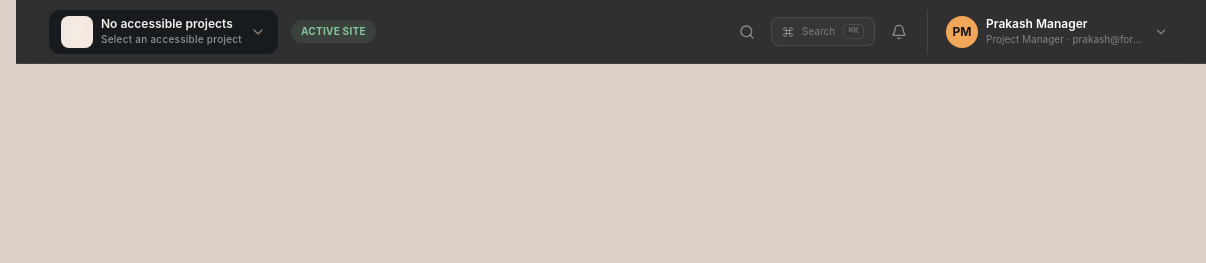
Test: Topbar › PM notifications load from the PM dashboard recent logs
What coordinates should you click on to do the following:
click the button named "Notifications"
I would click on:
 (899, 32)
Its box is 883,16 -> 915,48.
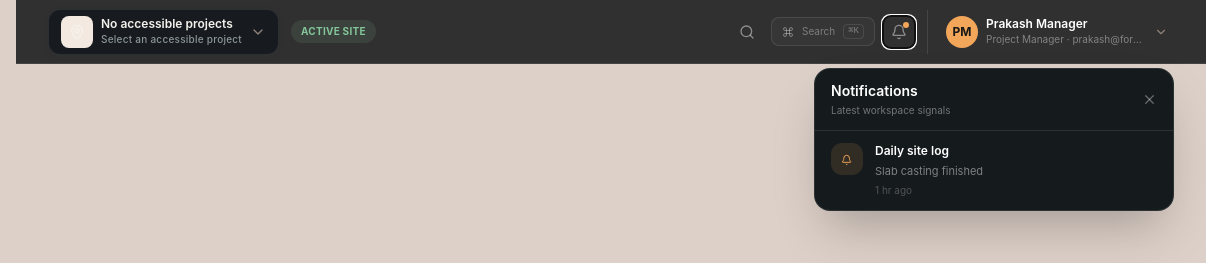
expect the text "Daily site log" is shown: met, box 875,143 -> 949,158
expect the text "Slab casting finished" is shown: met, box 875,164 -> 983,178
expect the text "1 hr ago" is shown: met, box 875,184 -> 912,196
